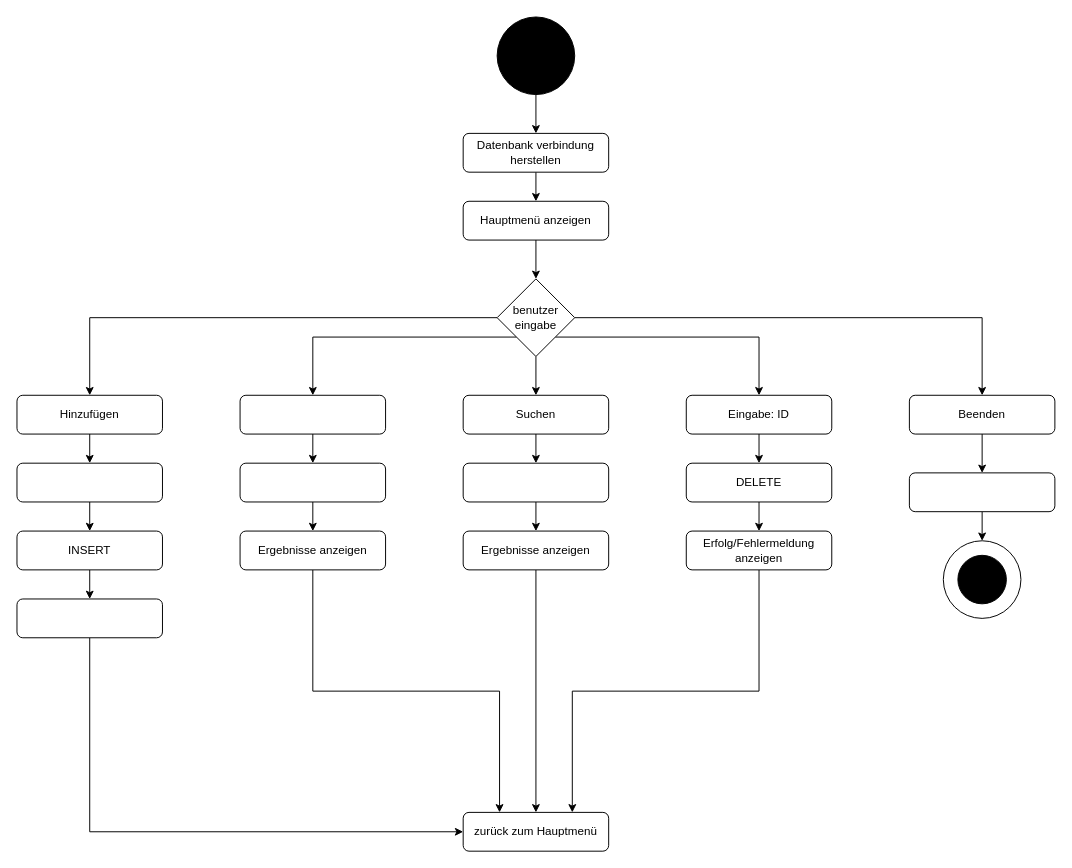
The diagram is 1072 pixels wide and 868 high, and some of its shapes have lost their labels. The shapes that lost their labels are listed below. From the top down, each one's centre as x and y in pixels, then its label:
[312,414]: Alle anzeigen
[89,482]: Eingabe(Name, Telefonnummer, E-Mail)
[312,482]: SELECT *
[535,482]: SELECT WHERE
[981,492]: Datenbank verbindung schließen
[89,618]: Erfolg/Fehlermeldung
